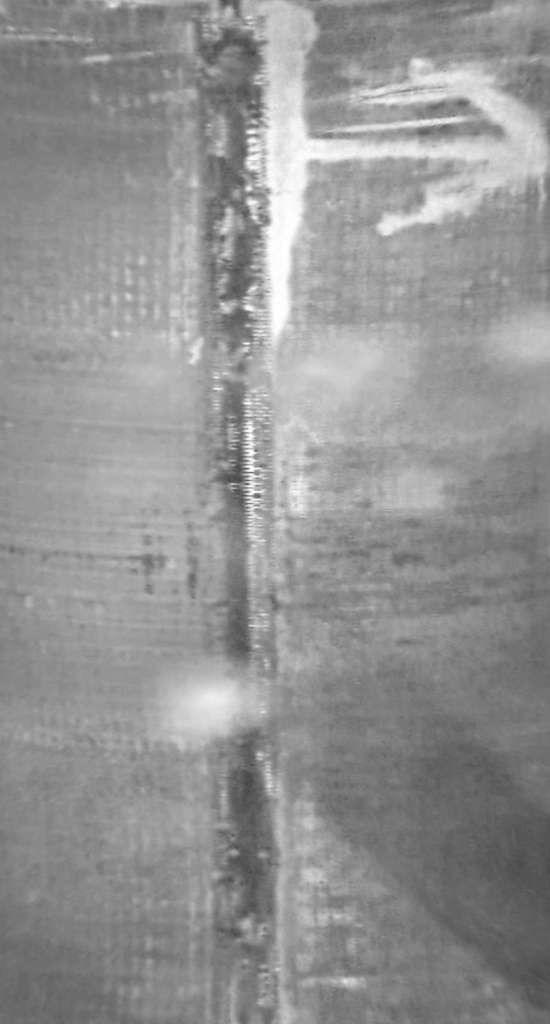splice: (187, 1, 299, 1024)
